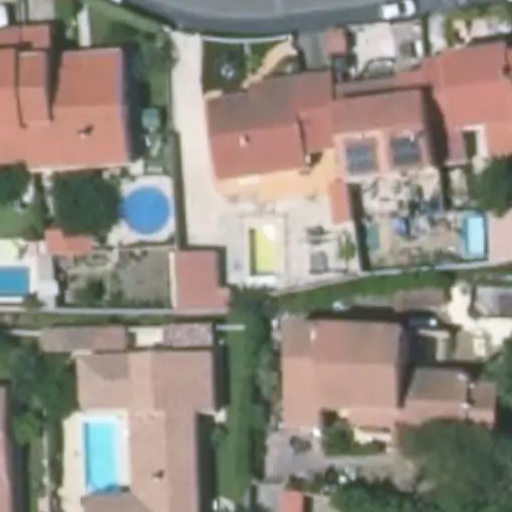pool: (234, 214, 277, 269)
